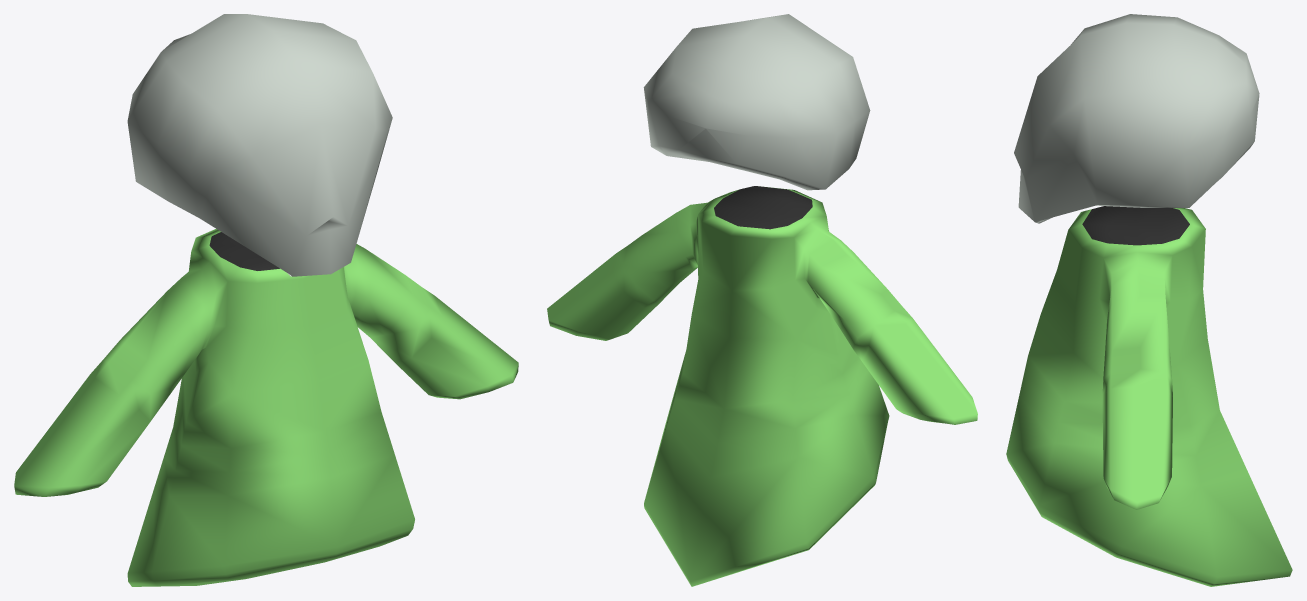
File: CM_Enemy_Ghost_01_Blockout.fbx
The picture shows the model from 3 angles, left to right: view 1: azimuth 30°, elevation 25°; view 2: azimuth 150°, elevation 25°; view 3: azimuth 270°, elevation 25°; orthographic projection. The views are drawn at different scales.
Parts seen in each view (by area): view 1: CM_Enemy_Ghost_01; view 2: CM_Enemy_Ghost_01; view 3: CM_Enemy_Ghost_01.
Boxes of the visible parts, x1,y1,x2,y2 form: CM_Enemy_Ghost_01: (14, 14, 518, 586); CM_Enemy_Ghost_01: (547, 14, 977, 586); CM_Enemy_Ghost_01: (1006, 14, 1292, 586).
Size of the model in its own units: 160 by 182 by 85.45.
